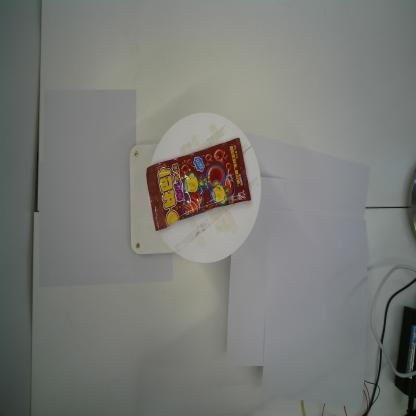Candy: (146, 138, 252, 232)
